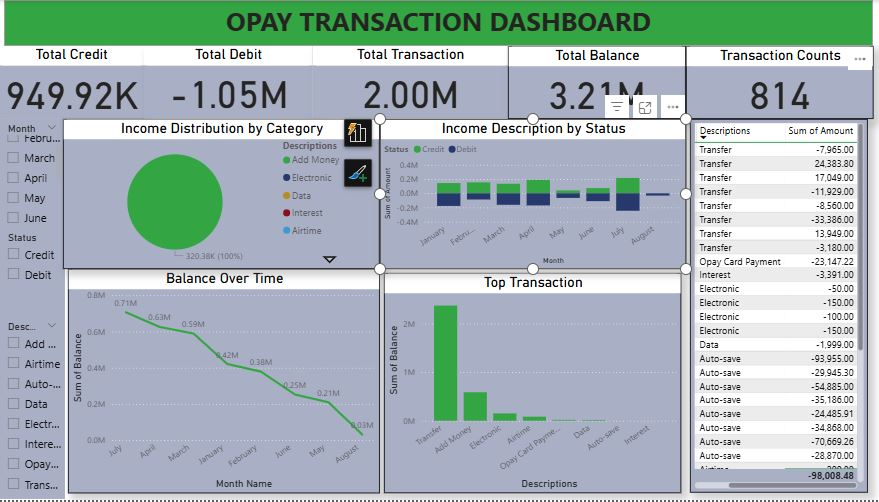

What the dashboard file says about the page in this screenshot:
{"tool":"powerbi","page":{"name":"Page 1","canvas":[1280,720],"ordinal":0},"visuals":[{"type":"card","title":"Total Credit","fields":{"Values":["Sheet1.Total Credit"]},"box":[0,66.1,209.2,105.5],"z":0},{"type":"card","title":"Total Debit","fields":{"Values":["Sheet1.Total Debit"]},"box":[209.2,66.1,243.1,103.7],"z":1000},{"type":"card","title":"Total Transaction","fields":{"Values":["Sheet1.Total Transaction"]},"box":[452.3,66.1,280.7,103.7],"z":2000},{"type":"card","title":"Total Balance","fields":{"Values":["Sum(Sheet1.Balance)"]},"box":[733,66.1,255.6,105.5],"z":3000},{"type":"slicer","fields":{"Values":["Sheet1.Value Date.Variation.Date Hierarchy.Month"]},"box":[0,171.4,95,157],"z":4000},{"type":"card","title":"Transaction Counts","fields":{"Values":["Sheet1.Transaction Count"]},"box":[988.6,66.1,269.9,105.5],"z":5000},{"type":"lineChart","title":"Balance Over Time","fields":{"Category":["Sheet1.Month Name"],"Y":["Sum(Sheet1.Balance)"]},"box":[99.4,387.4,449.3,322.6],"z":6000},{"type":"columnChart","title":"Top Transaction","fields":{"Category":["Sheet1.Descriptions"],"Y":["Sum(Sheet1.Balance)"]},"box":[554.4,393.1,427.7,316.8],"z":7000},{"type":"slicer","fields":{"Values":["Sheet1.Status"]},"box":[0,328.3,95,129.6],"z":8000},{"type":"pieChart","title":"Income Distribution by Category","fields":{"Category":["Sheet1.Descriptions"],"Y":["Sum(Sheet1.Amount)"]},"box":[92.2,171.4,456.5,216],"z":9000},{"type":"columnChart","title":"Income Description by Status","fields":{"Category":["Sheet1.Value Date.Variation.Date Hierarchy.Month"],"Y":["Sum(Sheet1.Amount)"],"Series":["Sheet1.Status"]},"box":[548.6,171.4,440.6,216],"z":10000},{"type":"textbox","box":[7.2,0,1251.4,66.1],"z":11000},{"type":"slicer","fields":{"Values":["Sheet1.Descriptions"]},"box":[0,456.5,95,262.1],"z":12000},{"type":"tableEx","fields":{"Values":["Sheet1.Value Date.Variation.Date Hierarchy.Month","Sheet1.Descriptions","Sum(Sheet1.Amount)"]},"box":[995.8,171.6,255.6,538.1],"z":13000}]}

Visuals, with their boxes in screenshot pixels (x1, y1, x2, y2), scaled from the page's 1280x720 canvas onto the 879x502 screenshot:
"Total Credit" card: box=[0, 46, 144, 120]
"Total Debit" card: box=[144, 46, 311, 118]
"Total Transaction" card: box=[311, 46, 503, 118]
"Total Balance" card: box=[503, 46, 679, 120]
slicer - Sheet1.Value Date.Variation.Date Hierarchy.Month: box=[0, 120, 65, 229]
"Transaction Counts" card: box=[679, 46, 864, 120]
"Balance Over Time" lineChart: box=[68, 270, 377, 495]
"Top Transaction" columnChart: box=[381, 274, 674, 495]
slicer - Sheet1.Status: box=[0, 229, 65, 319]
"Income Distribution by Category" pieChart: box=[63, 120, 377, 270]
"Income Description by Status" columnChart: box=[377, 120, 679, 270]
textbox: box=[5, 0, 864, 46]
slicer - Sheet1.Descriptions: box=[0, 318, 65, 501]
tableEx - Sheet1.Value Date.Variation.Date Hierarchy.Month x Sheet1.Descriptions: box=[684, 120, 859, 495]
